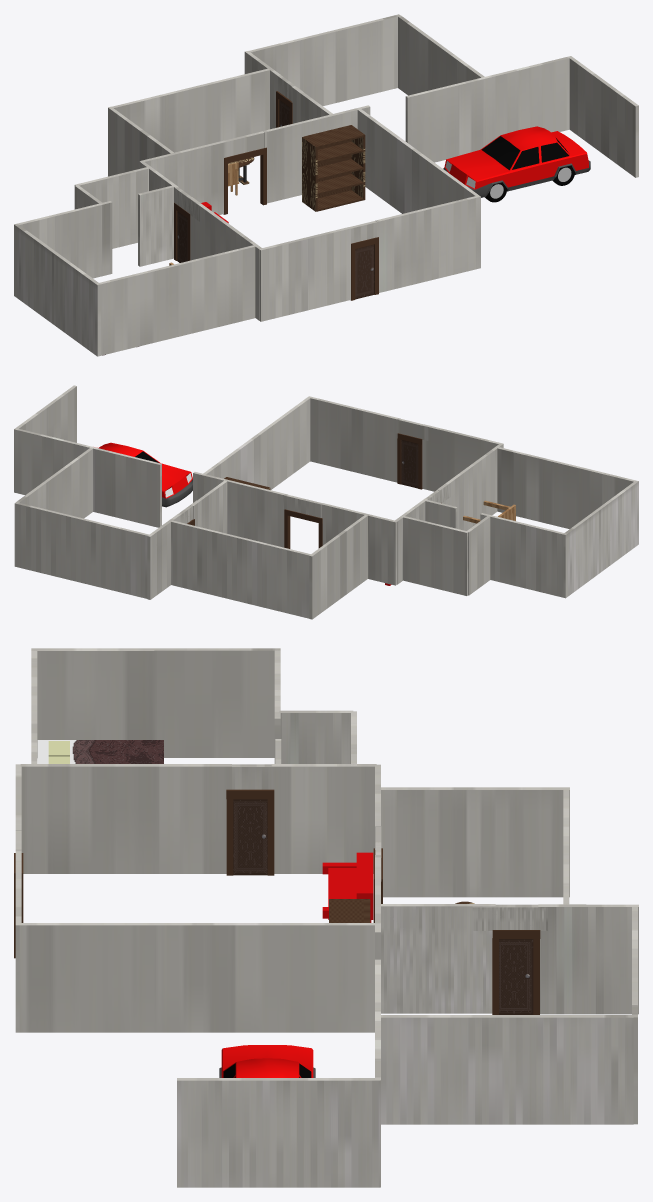
The model's file is house.fbx.
3 views of the same model, one above another, from view 1: azimuth 30°, elevation 25°; view 2: azimuth 150°, elevation 25°; view 3: azimuth 270°, elevation 25° (orthographic). The views are drawn at different scales.
Visible parts, largest first — view 1: Cube.025, Cube.056, Cube.054, Cube.037, Cube.001, Cube.002, Car, Cube.007, Cube.011, Cube.057, Plane.001, Cube.024 (+14 smaller); view 2: Cube.037, Cube.054, Cube.056, Cube.025, Cube.001, Cube.007, Cube.024, Cube.011, Cube.014, Cube.036, Cube.005, Cube.002 (+16 smaller); view 3: Cube.011, Cube.055, Cube.007, Cube.008, Cube.057, Cube.036, Cube.042, Cube.004, Cube.041, Cube.013, Car, Cube.065 (+13 smaller).
Part boxes in pixels (<box>): Cube.025: <box>96,245,255,355</box>; Cube.056: <box>405,56,571,162</box>; Cube.054: <box>248,14,400,105</box>; Cube.037: <box>109,68,269,152</box>; Cube.001: <box>375,195,480,292</box>; Cube.002: <box>259,227,350,321</box>; Car: <box>443,126,590,202</box>; Cube.007: <box>14,223,100,356</box>; Cube.011: <box>357,109,478,213</box>; Cube.057: <box>569,56,638,177</box>; Plane.001: <box>302,125,365,211</box>; Cube.024: <box>17,201,112,278</box>; Cube.037: <box>171,520,312,618</box>; Cube.054: <box>14,502,149,598</box>; Cube.056: <box>14,428,161,527</box>; Cube.025: <box>497,447,635,528</box>; Cube.001: <box>308,396,400,482</box>; Cube.007: <box>563,480,638,598</box>; Cube.024: <box>480,513,564,597</box>; Cube.011: <box>203,397,310,490</box>; Cube.014: <box>401,516,467,595</box>; Cube.036: <box>309,515,367,619</box>; Cube.005: <box>193,472,287,547</box>; Cube.002: <box>422,424,503,491</box>; Cube.011: <box>19,923,374,1032</box>; Cube.055: <box>381,1015,633,1124</box>; Cube.007: <box>31,648,280,757</box>; Cube.008: <box>20,764,231,873</box>; Cube.057: <box>177,1078,380,1187</box>; Cube.036: <box>381,787,569,897</box>; Cube.042: <box>381,904,495,1013</box>; Cube.004: <box>271,764,376,873</box>; Cube.041: <box>538,904,638,1014</box>; Cube.013: <box>279,710,353,763</box>; Car: <box>219,1045,315,1077</box>; Cube.065: <box>233,799,267,875</box>.
Size of the model in its own units: 3708 by 466 by 2265.
Materials: 35 (20 with a texture image).
